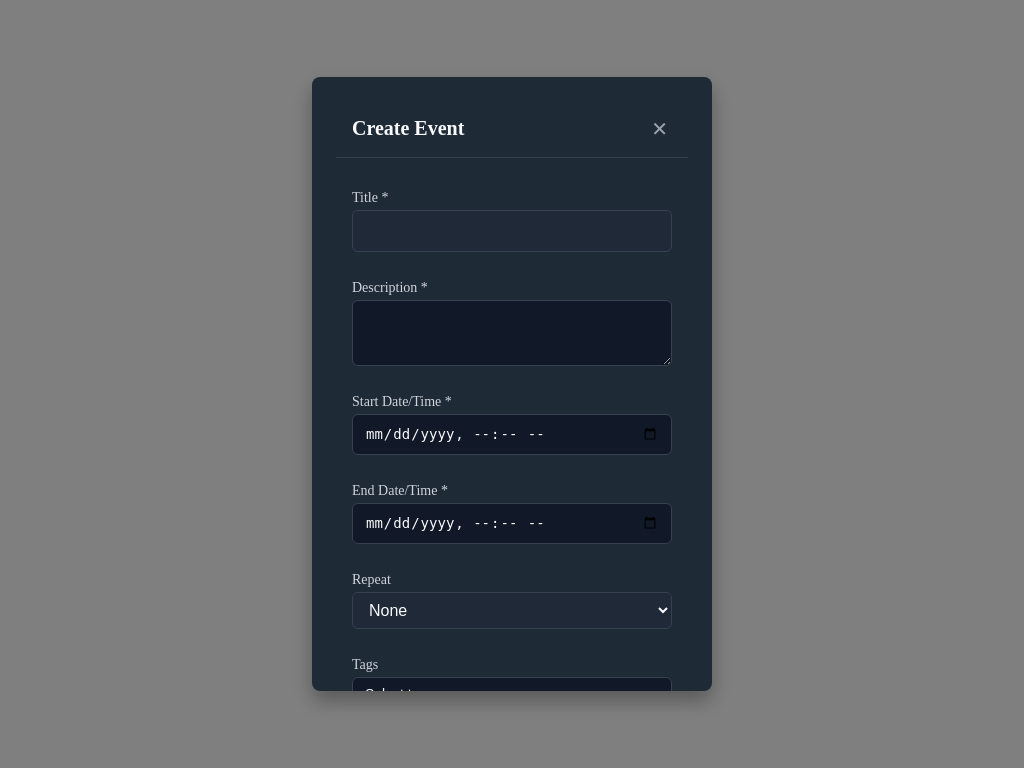
EventModal › Validation Errors › shows error when end date is before start date
Type "Test Event" into the field labelled "Title *" at coordinates (512, 231), box [352,210,672,252]
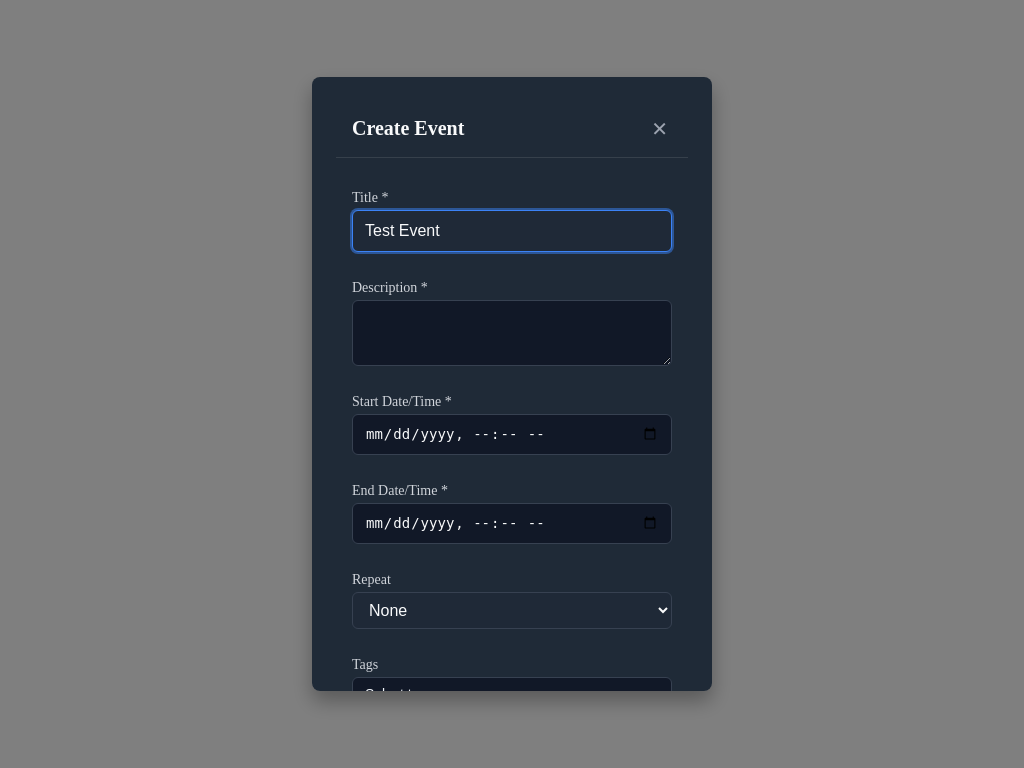
Type "Test Description" into the text box labelled "Description *" at coordinates (512, 333), box [352,300,672,366]
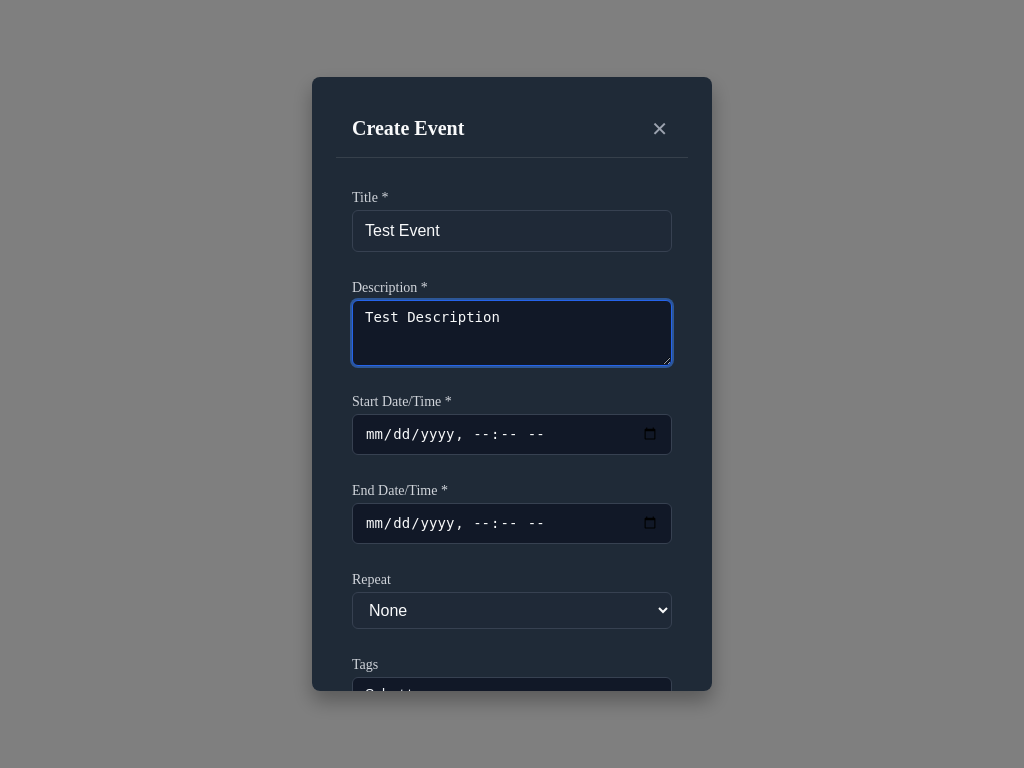
Type "2024-01-15T12:00" into the field labelled "Start Date/Time *" at coordinates (512, 434), box [352,414,672,455]
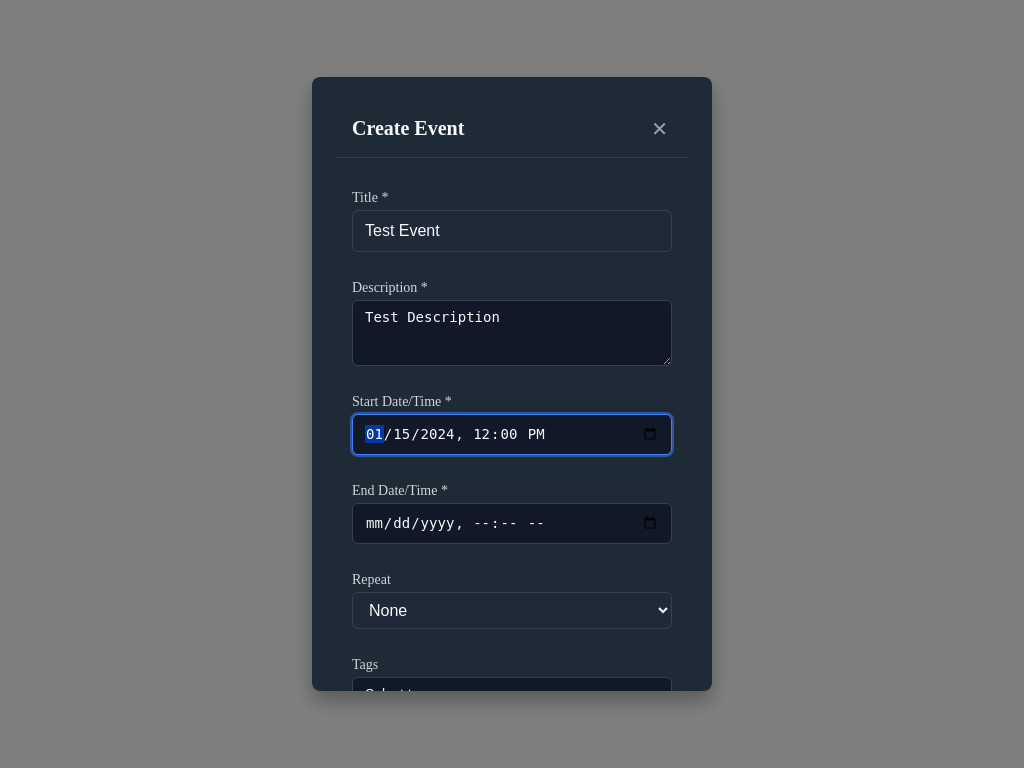
Type "2024-01-15T10:00" into the field labelled "End Date/Time *" at coordinates (512, 523), box [352,503,672,544]
(page scrolled)
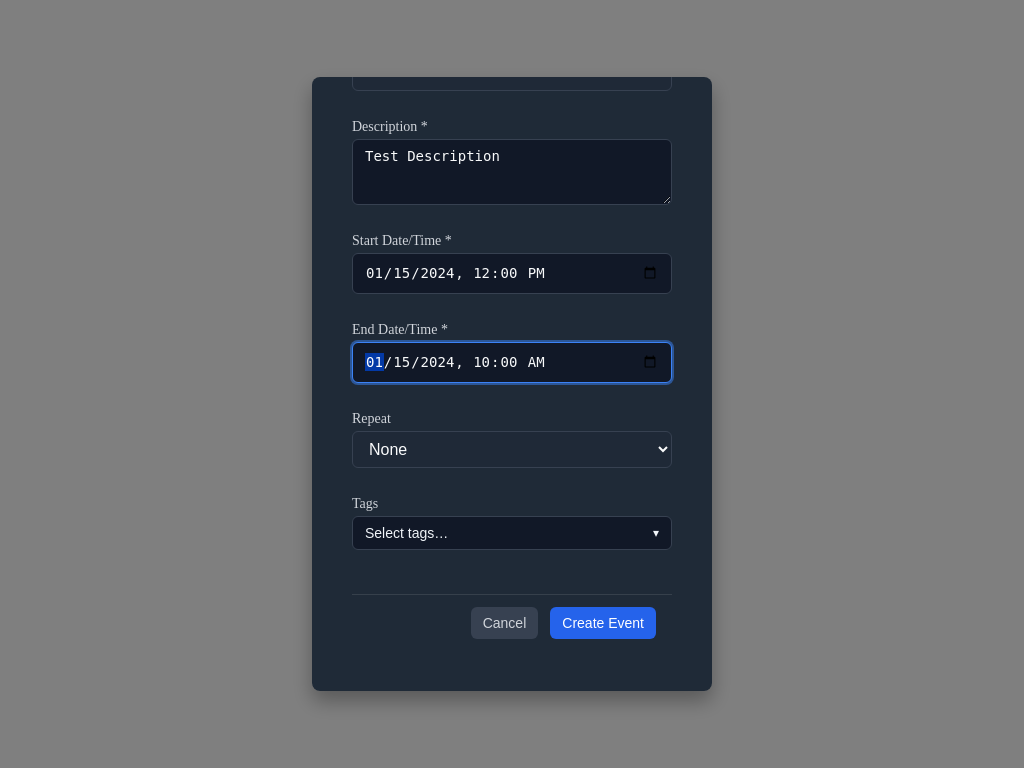
Click the button "Create Event" at coordinates (603, 623), box [550,607,656,639]
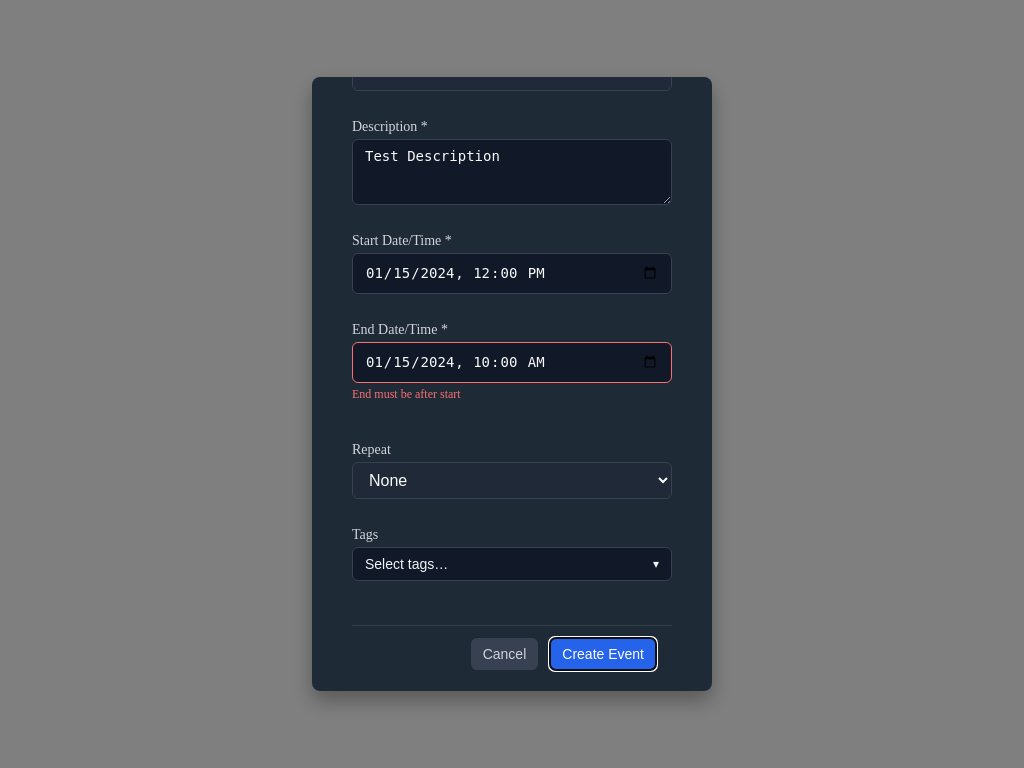
Expected: the text "End must be after start" is shown, [352,387,461,401]
